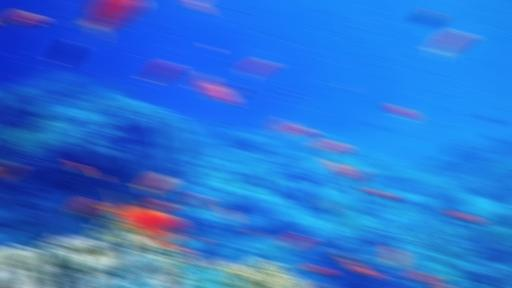Fish: (101, 191, 184, 236), (76, 0, 144, 43), (424, 30, 473, 59), (49, 41, 82, 69), (135, 173, 174, 196), (143, 62, 180, 84), (2, 9, 45, 27), (69, 198, 104, 220), (202, 81, 235, 103), (240, 59, 275, 78), (415, 8, 444, 27), (89, 0, 115, 21), (444, 208, 481, 222), (327, 159, 352, 177), (312, 140, 349, 152), (191, 72, 214, 91), (389, 104, 416, 119), (272, 118, 293, 137), (283, 235, 312, 248), (182, 195, 211, 208), (387, 246, 404, 268), (344, 166, 367, 182), (142, 199, 175, 210), (285, 124, 314, 135), (0, 163, 21, 178), (224, 83, 247, 96), (219, 206, 238, 221), (409, 273, 440, 282), (188, 0, 209, 13), (160, 233, 181, 246), (342, 258, 363, 271), (354, 267, 381, 277), (365, 189, 394, 198), (303, 266, 332, 274), (166, 243, 187, 252), (71, 162, 88, 173), (190, 257, 209, 266), (93, 171, 108, 180), (246, 230, 263, 236), (317, 283, 329, 287), (446, 284, 459, 287)
